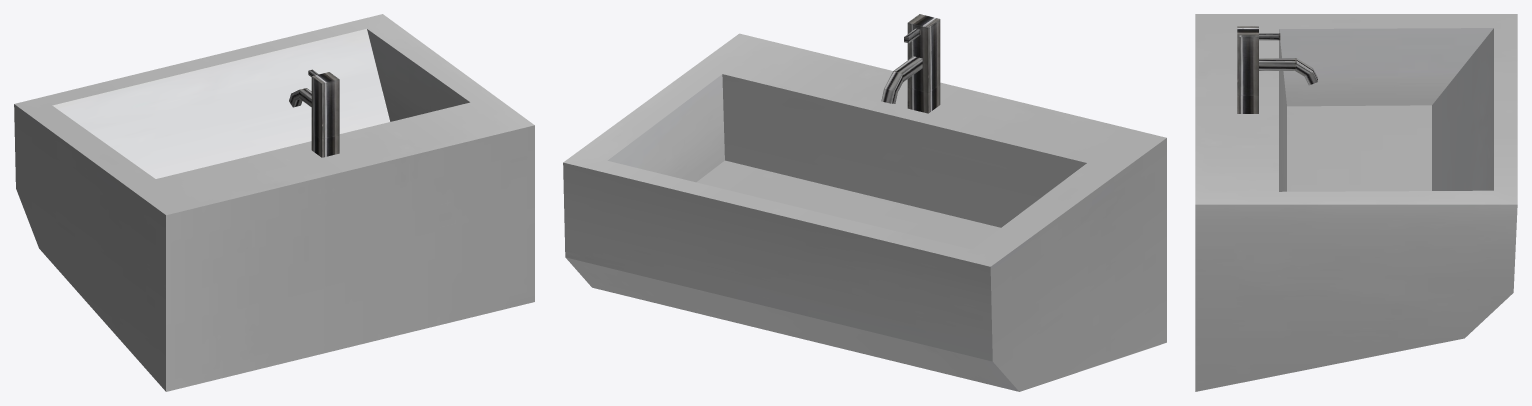
Rendered from sink.glb.
3 views of the same model, side by side, from view 1: azimuth 30°, elevation 25°; view 2: azimuth 150°, elevation 25°; view 3: azimuth 270°, elevation 25° (orthographic). The views are drawn at different scales.
Visible parts, largest first — view 1: Sink; view 2: Sink; view 3: Sink.
Boxes of the visible parts, left/top/right/bottom form: Sink: left=14, top=14, right=534, bottom=391; Sink: left=563, top=14, right=1166, bottom=391; Sink: left=1195, top=14, right=1517, bottom=391.
Bounding box in the file's own units: 3.26 × 2.12 × 2.33.
Materials: 1 (1 with a texture image).
